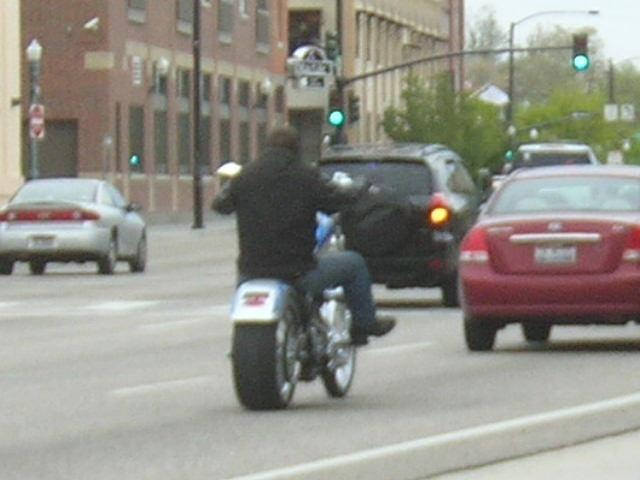car: (457, 166, 640, 351), (308, 144, 482, 312), (0, 179, 146, 275), (492, 142, 604, 193)
motorcycle: (228, 277, 362, 413)
